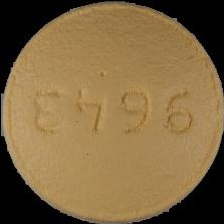50090-0108: (0, 0, 224, 224)
